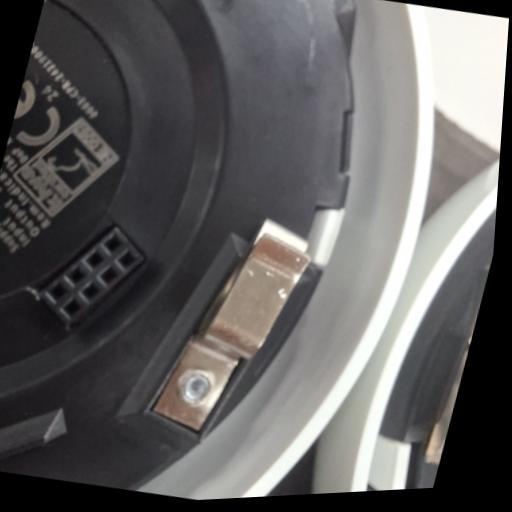yayli: (143, 206, 322, 451)
